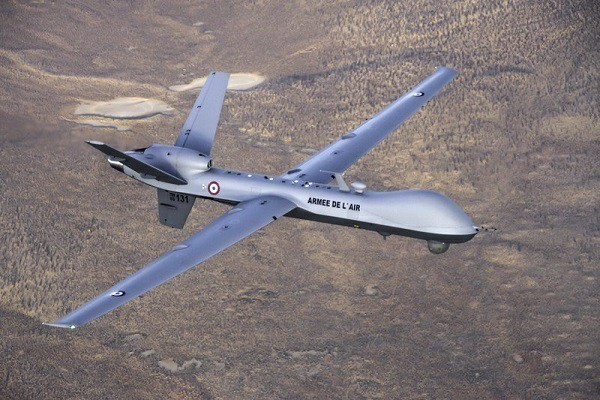maybay_khongnguoilai: (45, 68, 475, 336)
